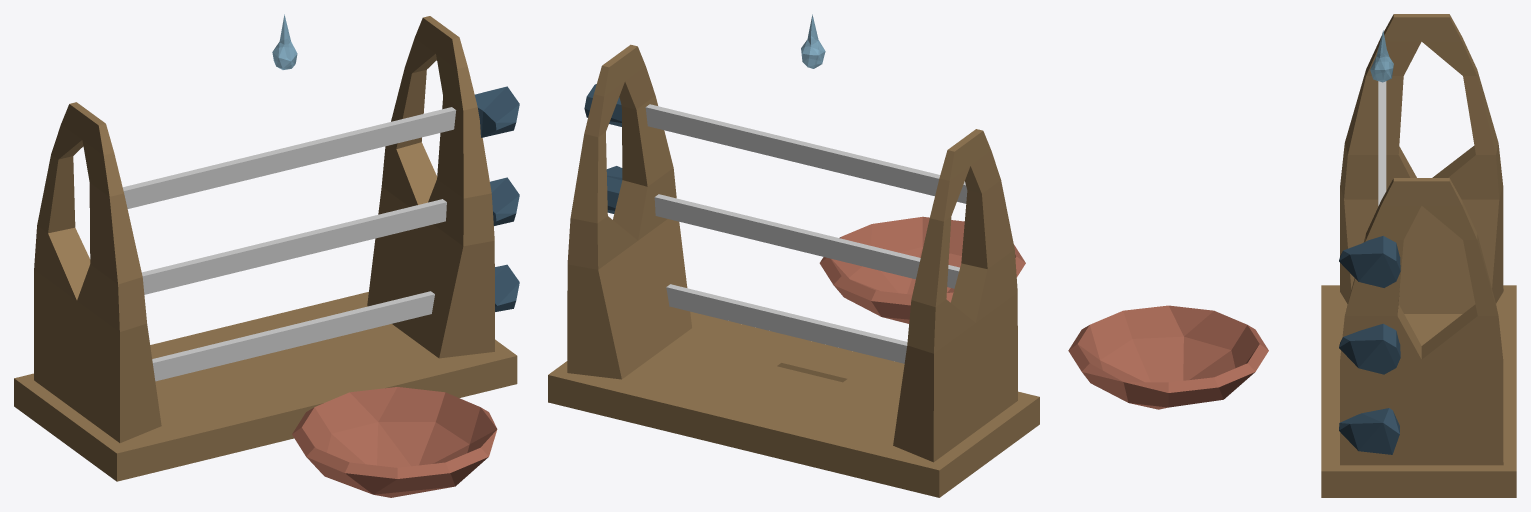
File: SoundPuzzle.fbx
3 renders of one model, left to right at view 1: azimuth 30°, elevation 25°; view 2: azimuth 150°, elevation 25°; view 3: azimuth 270°, elevation 25°, orthographic. The views are drawn at different scales.
Visible parts, largest first — view 1: Instrument, Circle, String Top, String Mid, String Bottom, Tuner Top, Tuner Mid, Tuner Bottom, Sphere; view 2: Instrument, String Top, Circle, String Mid, String Bottom, Sphere, Tuner Mid; view 3: Instrument, Circle, Tuner Top, Tuner Mid, Tuner Bottom, String Top, Sphere.
Part boxes in pixels (x1,y1,x2,y2): Instrument: (14,16,517,481); Circle: (292,387,497,497); String Top: (122,107,456,208); String Mid: (141,199,446,294); String Bottom: (152,291,434,381); Tuner Top: (475,86,519,137); Tuner Mid: (490,177,519,225); Tuner Bottom: (495,264,519,311); Sphere: (272,14,297,69); Instrument: (548,44,1039,497); String Top: (645,104,967,203); Circle: (819,216,1025,323); String Mid: (654,194,959,288); String Bottom: (666,284,907,363); Sphere: (801,14,825,68); Tuner Mid: (606,166,622,213); Instrument: (1321,14,1516,497); Circle: (1068,305,1268,409); Tuner Top: (1339,236,1400,287); Tuner Mid: (1339,323,1400,374); Tuner Bottom: (1339,408,1399,454); String Top: (1378,81,1386,205); Sphere: (1370,30,1393,82).
Size of the model in its own units: 78.31 by 69.65 by 75.42.
